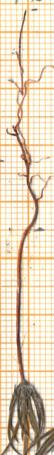flower: (0, 378, 50, 455)
root: (2, 11, 54, 230)
stem: (12, 228, 39, 379)
